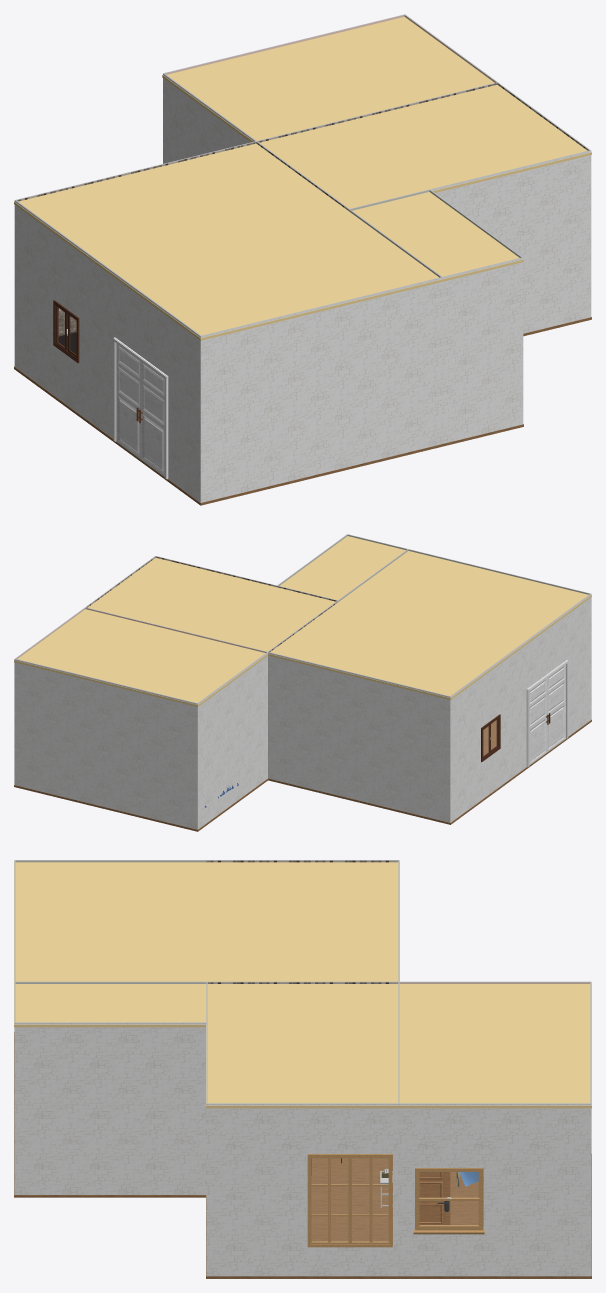
The model's file is ProcTHOR-Train-175.glb.
3 renders of one model, top to bottom at view 1: azimuth 30°, elevation 25°; view 2: azimuth 150°, elevation 25°; view 3: azimuth 270°, elevation 25°, orthographic. The views are drawn at different scales.
Parts seen in each view (by area): view 1: WallInside#wall|exterior|5.14|10.29|10.29|10.29, Ceiling#room|4|c, Ceiling#room|2|c, Ceiling#room|5|c, Ceiling#room|6|c, WallInside#wall|exterior|0.00|6.86|3.43|6.86, WallInside#wall|exterior|10.29|3.43|10.29|6.86, WallInside#wall|exterior|3.43|10.29|5.14|10.29, WallInside#wall|exterior|10.29|6.86|10.29|10.29, Ceiling#room|3|c, WallInside#wall|exterior|5.14|0.00|5.14|3.43, Doorway_Door_8b (+7 smaller); view 2: WallInside#wall|exterior|0.00|0.00|5.14|0.00, WallInside#wall|exterior|5.14|3.43|10.29|3.43, Ceiling#room|2|c, Ceiling#room|6|c, Ceiling#room|4|c, Ceiling#room|5|c, WallInside#wall|exterior|5.14|0.00|5.14|3.43, WallInside#wall|exterior|10.29|3.43|10.29|6.86, WallInside#wall|exterior|10.29|6.86|10.29|10.29, Ceiling#room|3|c, Doorway_Door_8b, Doorway_Door_8a (+7 smaller); view 3: WallInside#wall|exterior|3.43|6.86|3.43|10.29, WallInside#wall|exterior|0.00|0.00|0.00|3.43, WallInside#wall|exterior|0.00|3.43|0.00|6.86, Ceiling#room|6|c, Ceiling#room|5|c, Ceiling#room|2|c, Ceiling#room|4|c, Ceiling#room|3|c, Floor#room|5|f, Window_Fixed_60x72, Floor#room|6|f, Window_Hung_48x44 (+4 smaller).
Boxes of the visible parts, box(x1,y1,x2,y2) form: WallInside#wall|exterior|5.14|10.29|10.29|10.29: box(201, 277, 442, 502); Ceiling#room|4|c: box(107, 211, 443, 340); Ceiling#room|2|c: box(14, 143, 348, 272); Ceiling#room|5|c: box(258, 84, 591, 208); Ceiling#room|6|c: box(162, 17, 494, 142); WallInside#wall|exterior|0.00|6.86|3.43|6.86: box(430, 150, 591, 333); WallInside#wall|exterior|10.29|3.43|10.29|6.86: box(14, 200, 107, 434); WallInside#wall|exterior|3.43|10.29|5.14|10.29: box(442, 258, 523, 443); WallInside#wall|exterior|10.29|6.86|10.29|10.29: box(107, 268, 200, 502); Ceiling#room|3|c: box(349, 192, 523, 281); WallInside#wall|exterior|5.14|0.00|5.14|3.43: box(163, 73, 255, 163); Doorway_Door_8b: box(116, 343, 140, 459); WallInside#wall|exterior|0.00|0.00|5.14|0.00: box(14, 659, 197, 829); WallInside#wall|exterior|5.14|3.43|10.29|3.43: box(268, 652, 450, 822); Ceiling#room|2|c: box(268, 602, 520, 699); Ceiling#room|6|c: box(14, 609, 268, 706); Ceiling#room|4|c: box(338, 551, 591, 648); Ceiling#room|5|c: box(86, 558, 336, 652); WallInside#wall|exterior|5.14|0.00|5.14|3.43: box(197, 652, 267, 829); WallInside#wall|exterior|10.29|3.43|10.29|6.86: box(450, 645, 520, 822); WallInside#wall|exterior|10.29|6.86|10.29|10.29: box(521, 594, 591, 770); Ceiling#room|3|c: box(280, 536, 405, 601); Doorway_Door_8b: box(529, 678, 547, 765); Doorway_Door_8a: box(547, 664, 565, 752); WallInside#wall|exterior|3.43|6.86|3.43|10.29: box(14, 1022, 206, 1194); WallInside#wall|exterior|0.00|0.00|0.00|3.43: box(398, 1103, 591, 1276); WallInside#wall|exterior|0.00|3.43|0.00|6.86: box(206, 1103, 399, 1276); Ceiling#room|6|c: box(398, 983, 591, 1108); Ceiling#room|5|c: box(206, 984, 399, 1108); Ceiling#room|2|c: box(206, 862, 399, 984); Ceiling#room|4|c: box(14, 862, 207, 984); Ceiling#room|3|c: box(14, 984, 207, 1027); Floor#room|5|f: box(206, 1155, 399, 1278); Window_Fixed_60x72: box(307, 1154, 392, 1247); Floor#room|6|f: box(398, 1154, 591, 1278); Window_Hung_48x44: box(413, 1168, 484, 1234).
Size of what is drawn, in the model's own units: 10.5 by 3.46 by 10.33.
300 materials, 129 textured.
